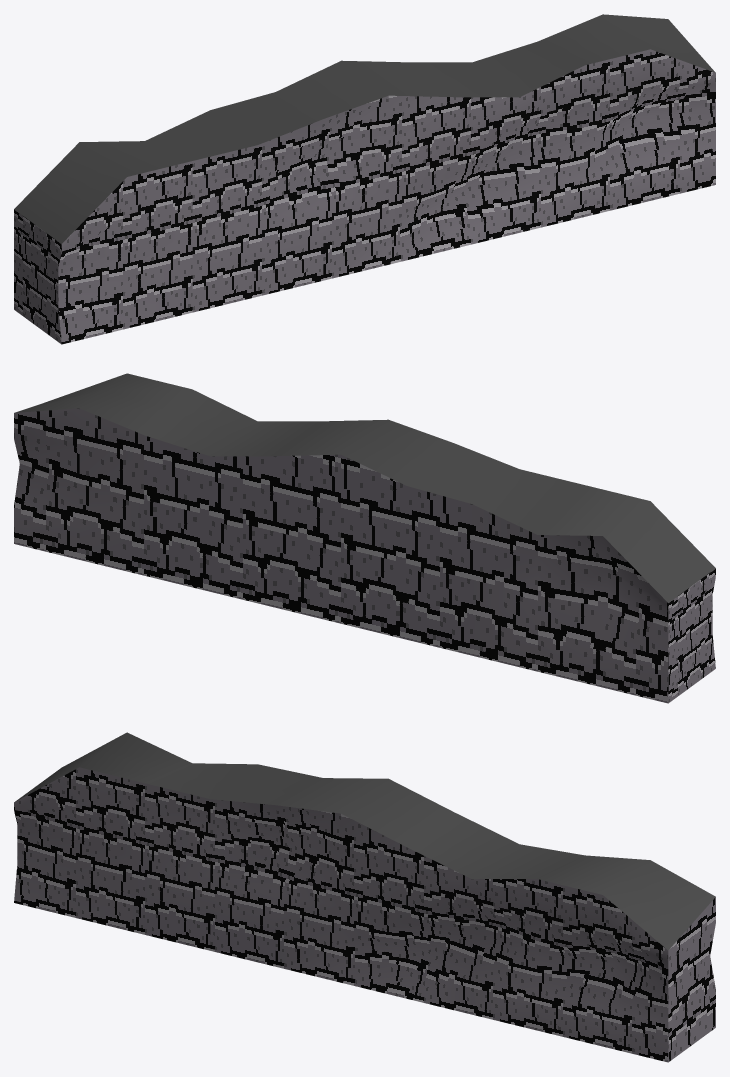
The model's file is Broken Wall.fbx.
The picture shows the model from 3 angles, top to bottom: view 1: azimuth 30°, elevation 25°; view 2: azimuth 150°, elevation 25°; view 3: azimuth 330°, elevation 25°; orthographic projection.
Visible parts, largest first — view 1: Broken_Wall1; view 2: Broken_Wall1; view 3: Broken_Wall1.
Boxes of the visible parts, x1,y1,x2,y2 form: Broken_Wall1: [14, 14, 715, 344]; Broken_Wall1: [14, 373, 715, 703]; Broken_Wall1: [14, 732, 715, 1062].
Bounding box in the file's own units: 3176 × 784 × 401.
2 materials, 1 textured.
